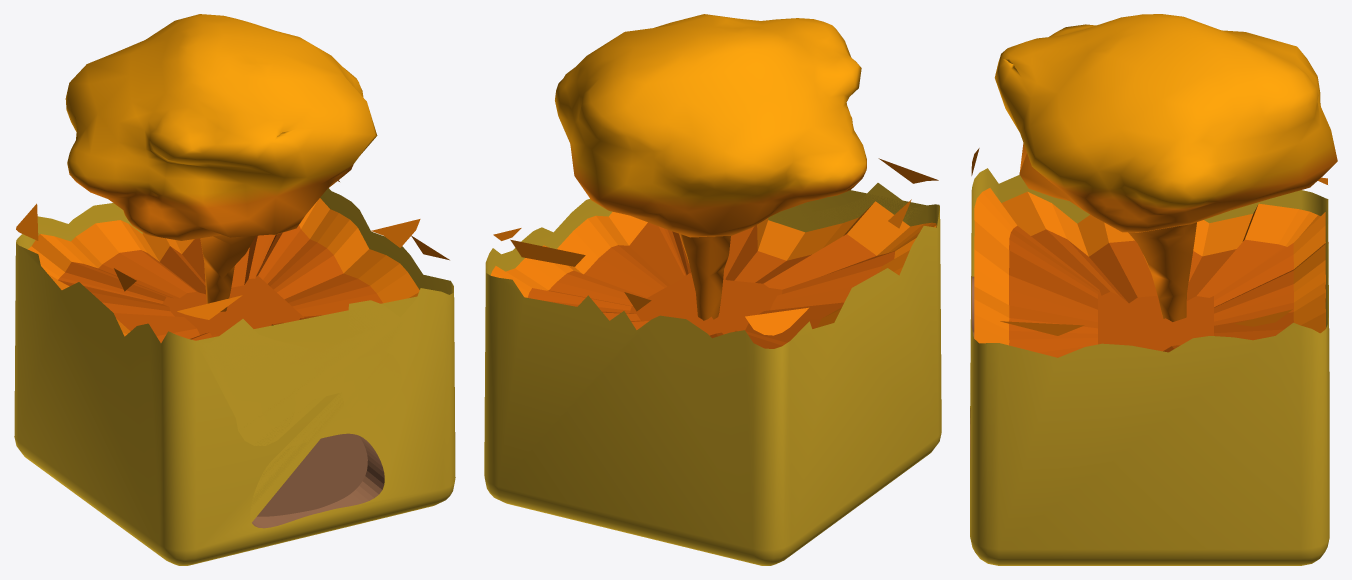
File: Boom.fbx
3 renders of one model, left to right at view 1: azimuth 30°, elevation 25°; view 2: azimuth 150°, elevation 25°; view 3: azimuth 270°, elevation 25°, orthographic. The views are drawn at different scales.
Visible parts, largest first — view 1: Boom; view 2: Boom; view 3: Boom.
Part boxes in pixels (left/top/right/bottom): Boom: left=14, top=14, right=455, bottom=565; Boom: left=484, top=14, right=941, bottom=565; Boom: left=970, top=14, right=1337, bottom=565.
Bounding box in the file's own units: 459 × 645 × 461.
